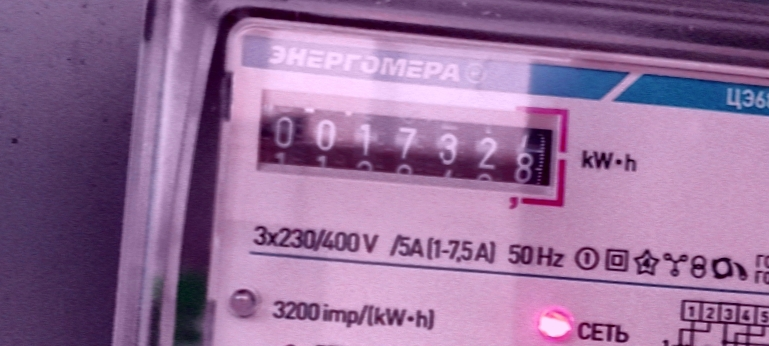0: (273, 111, 298, 149), (315, 116, 337, 151)
1: (357, 119, 375, 156)
2: (475, 133, 499, 171)
3: (436, 129, 461, 166)
7: (393, 122, 420, 161)
8: (512, 147, 535, 184)
screen: (246, 84, 575, 209)
